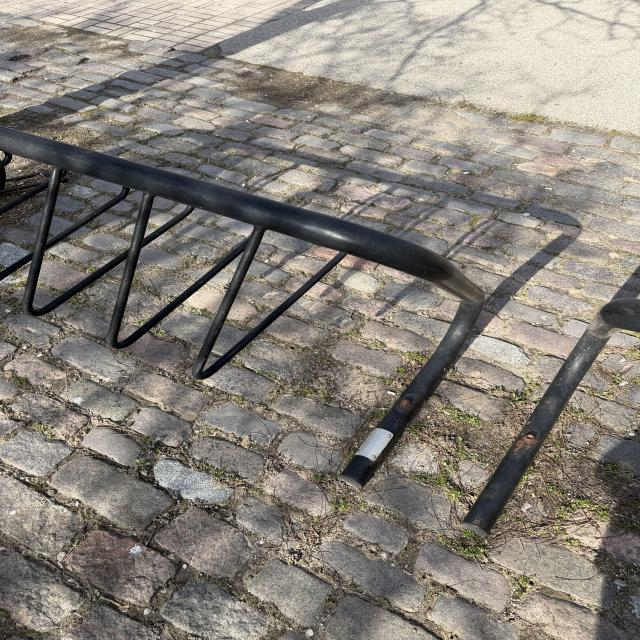Bicycle Rack: (1, 131, 485, 489), (456, 300, 638, 538)
